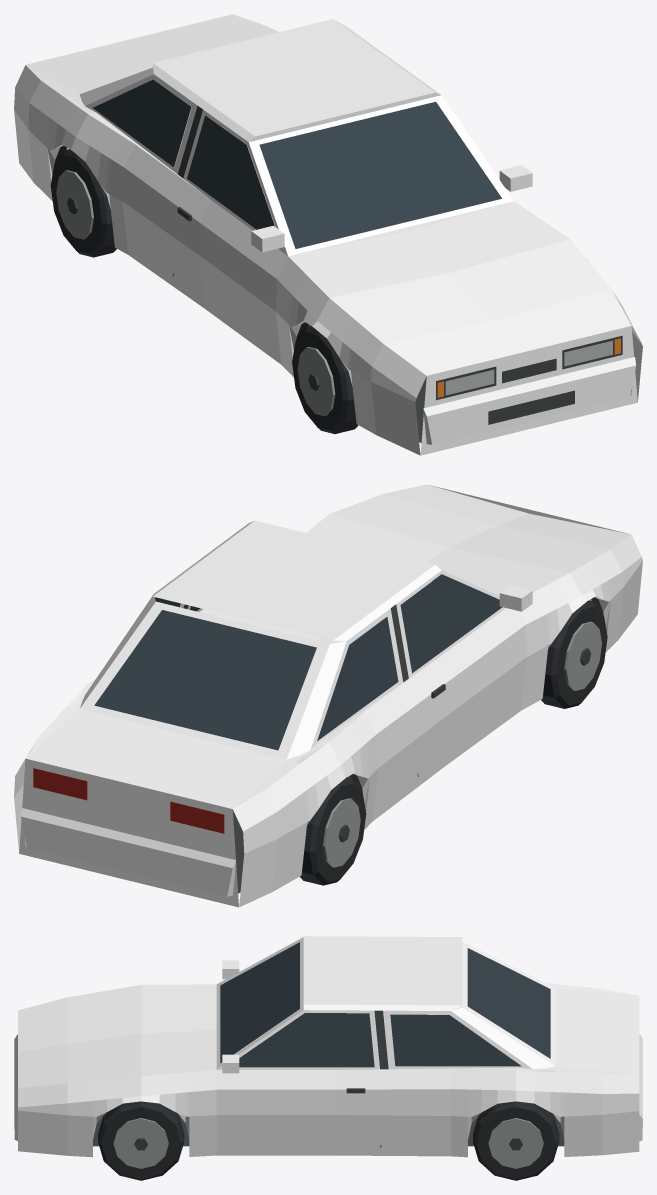
Rendered from kanaya_shinonome_r_ii.glb.
3 renders of one model, top to bottom at view 1: azimuth 30°, elevation 25°; view 2: azimuth 150°, elevation 25°; view 3: azimuth 270°, elevation 25°, orthographic. The views are drawn at different scales.
Parts seen in each view (by area): view 1: kanaya_shinonome_r_ii; view 2: kanaya_shinonome_r_ii; view 3: kanaya_shinonome_r_ii.
Part boxes in pixels (x1,y1,x2,y2): kanaya_shinonome_r_ii: [14, 14, 642, 455]; kanaya_shinonome_r_ii: [14, 484, 642, 907]; kanaya_shinonome_r_ii: [14, 936, 642, 1180].
Bounding box in the file's own units: 1.73 × 1.25 × 4.41.
8 materials, 1 textured.
